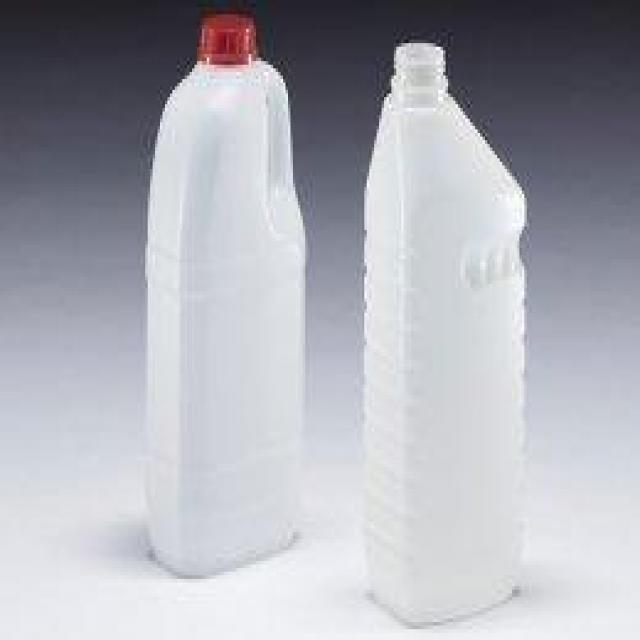plastic_bottle: (131, 5, 321, 584), (358, 28, 530, 614)
